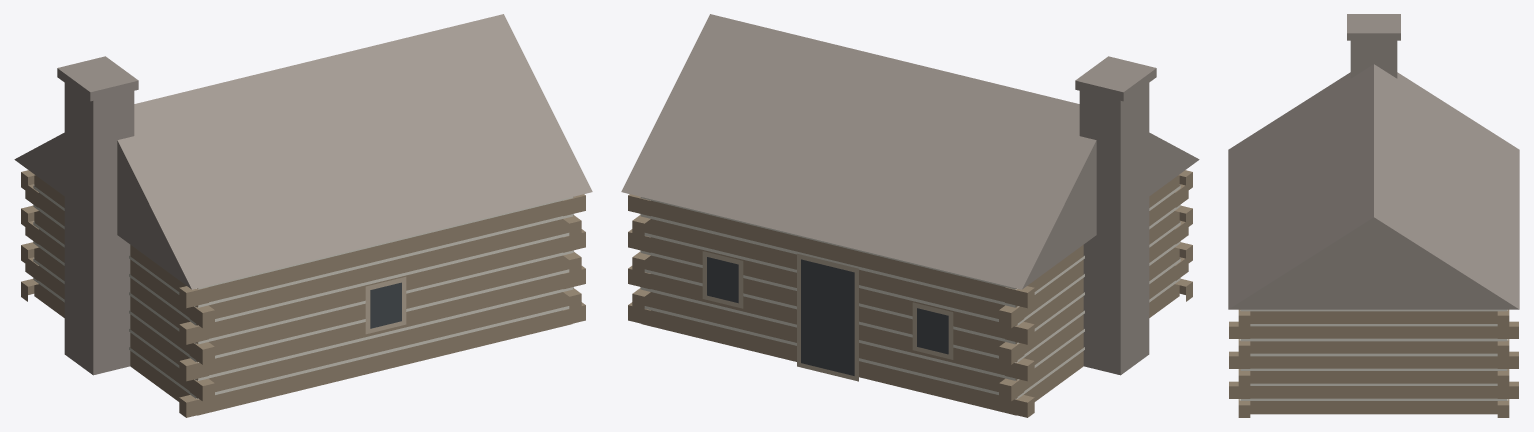
File: north_side_school_1833__log_1833.glb
The picture shows the model from 3 angles, left to right: view 1: azimuth 30°, elevation 25°; view 2: azimuth 150°, elevation 25°; view 3: azimuth 270°, elevation 25°; orthographic projection. The views are drawn at different scales.
Visible parts, largest first — view 1: north_side_school_1833__log_1833; view 2: north_side_school_1833__log_1833; view 3: north_side_school_1833__log_1833.
Part boxes in pixels (x1,y1,x2,y2): north_side_school_1833__log_1833: (14,14,592,417); north_side_school_1833__log_1833: (621,14,1199,417); north_side_school_1833__log_1833: (1228,14,1519,417).
Size of the model in its own units: 8.37 by 5.39 by 6.
